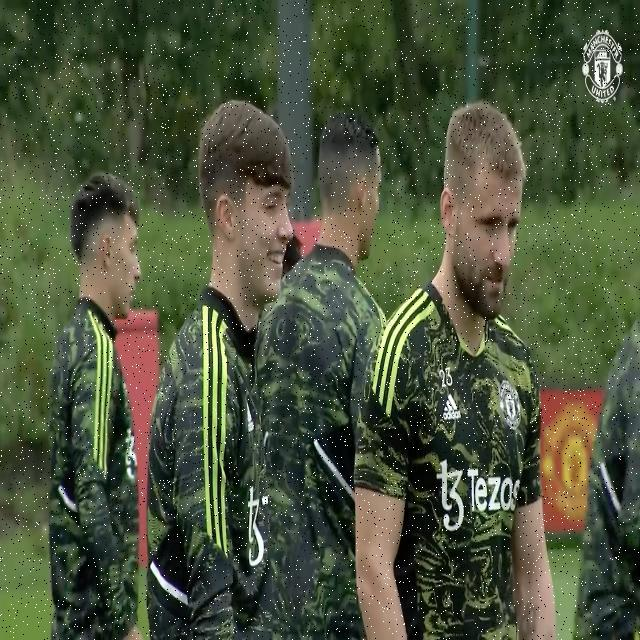Adidas: (442, 391, 463, 423)
